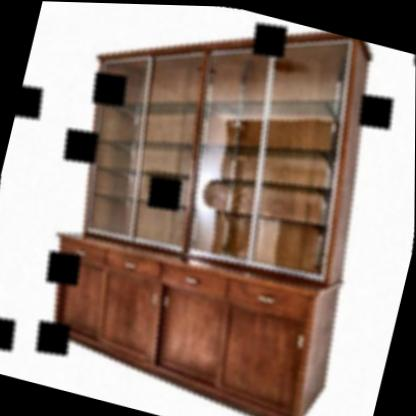Cupboard: (16, 0, 406, 416)
